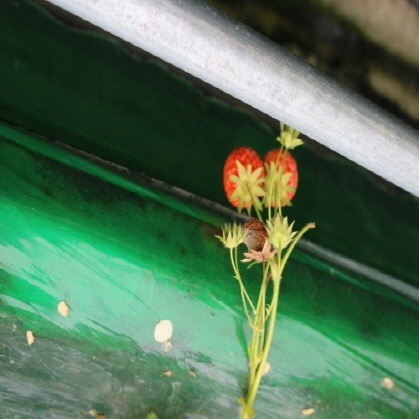Gray_Mold: (240, 151, 276, 262)
